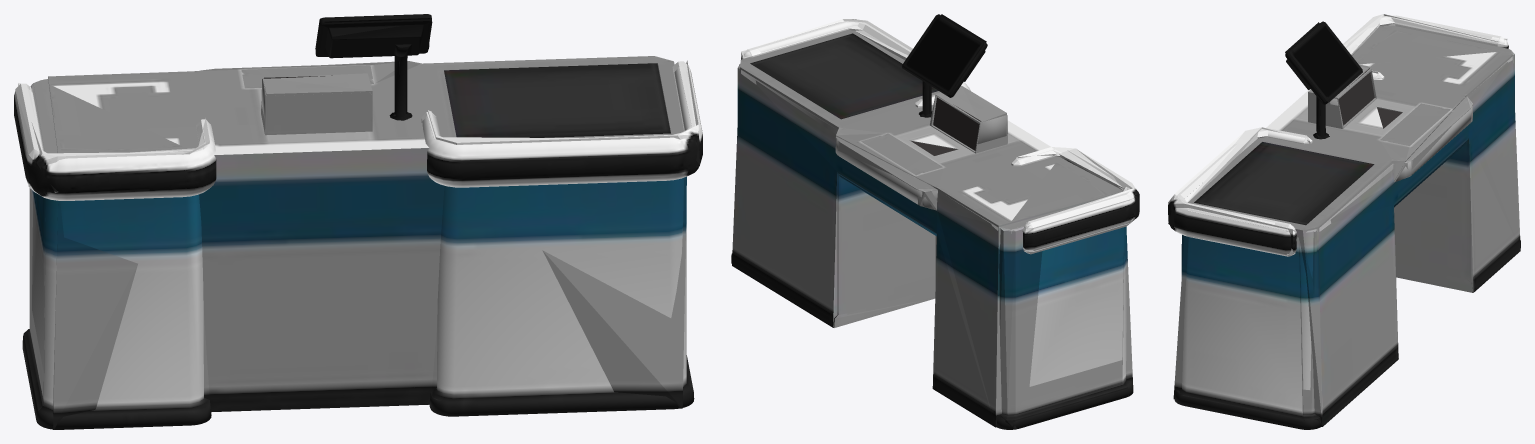
File: imp-cash-register.glb
3 views of the same model, side by side, from view 1: azimuth 30°, elevation 25°; view 2: azimuth 150°, elevation 25°; view 3: azimuth 270°, elevation 25° (orthographic). The views are drawn at different scales.
Visible parts, largest first — view 1: body_skin_body_0 (×3), pied_ecran_misc_tex_0 (×3); view 2: body_skin_body_0 (×3), pied_ecran_misc_tex_0 (×3), z_porte_caisse_no_norm_glass_0; view 3: body_skin_body_0 (×3), pied_ecran_misc_tex_0 (×3), z_porte_caisse_no_norm_glass_0.
Boxes of the visible parts, <box> form: body_skin_body_0 (×3): <box>22,56,694,429</box>; pied_ecran_misc_tex_0 (×3): <box>14,14,702,200</box>; body_skin_body_0 (×3): <box>731,29,1133,429</box>; pied_ecran_misc_tex_0 (×3): <box>741,14,1139,254</box>; z_porte_caisse_no_norm_glass_0: <box>933,97,979,150</box>; body_skin_body_0 (×3): <box>1173,25,1520,429</box>; pied_ecran_misc_tex_0 (×3): <box>1168,14,1508,256</box>; z_porte_caisse_no_norm_glass_0: <box>1338,72,1374,125</box>.
Bounding box in the file's own units: 1.6 × 0.9852 × 1.11.
Materials: 3 (2 with a texture image).
